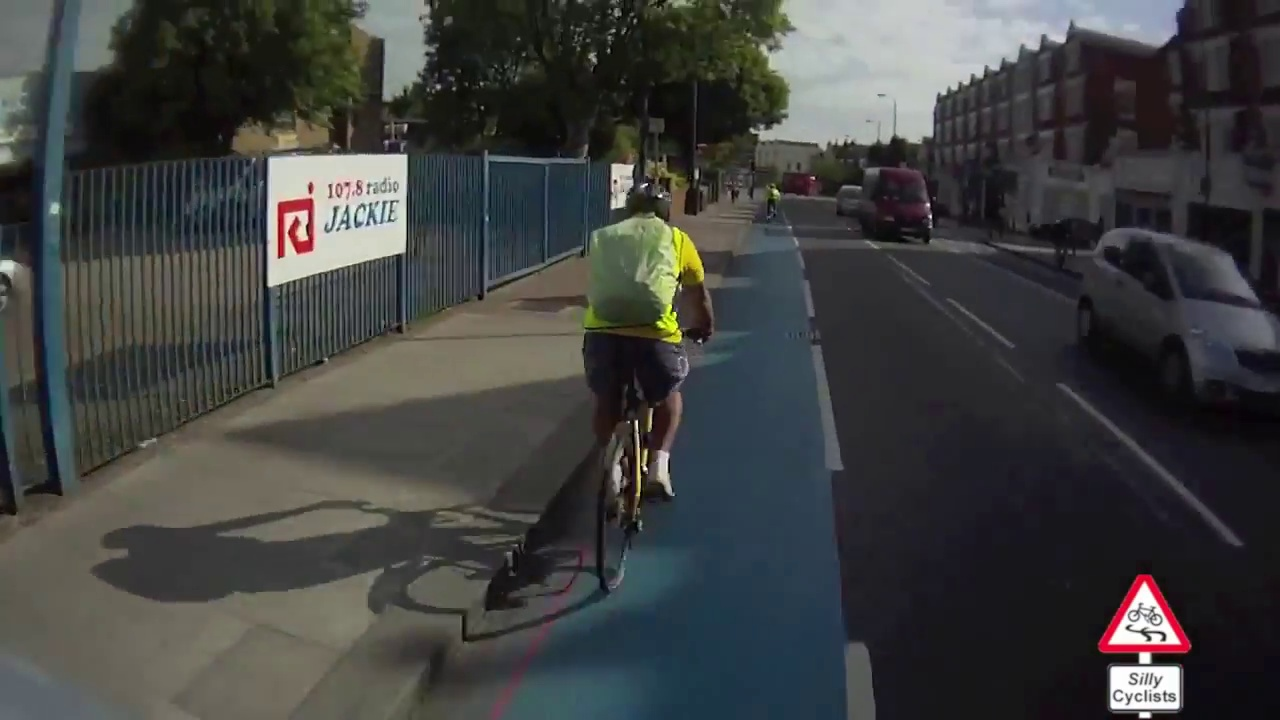cyclist_back: (565, 168, 688, 589)
